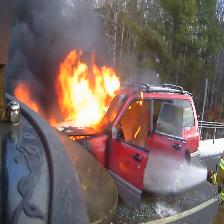fire: (42, 41, 158, 163)
smoke: (0, 0, 70, 125)
